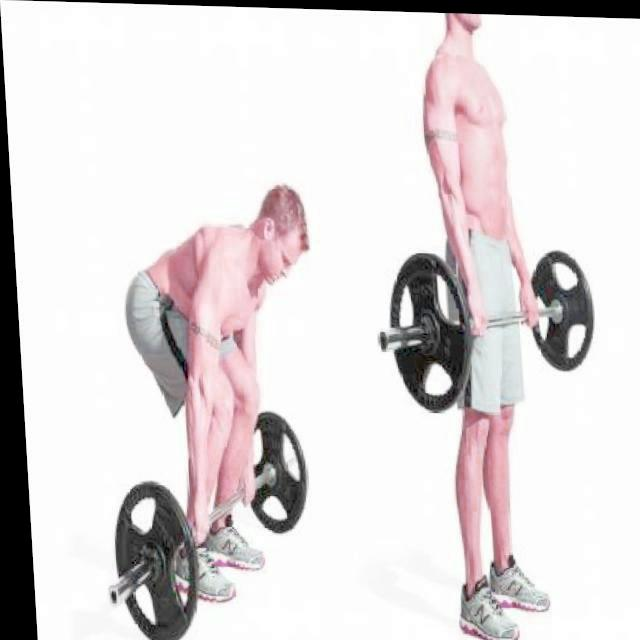barbell: (369, 246, 477, 417), (95, 477, 200, 640)
